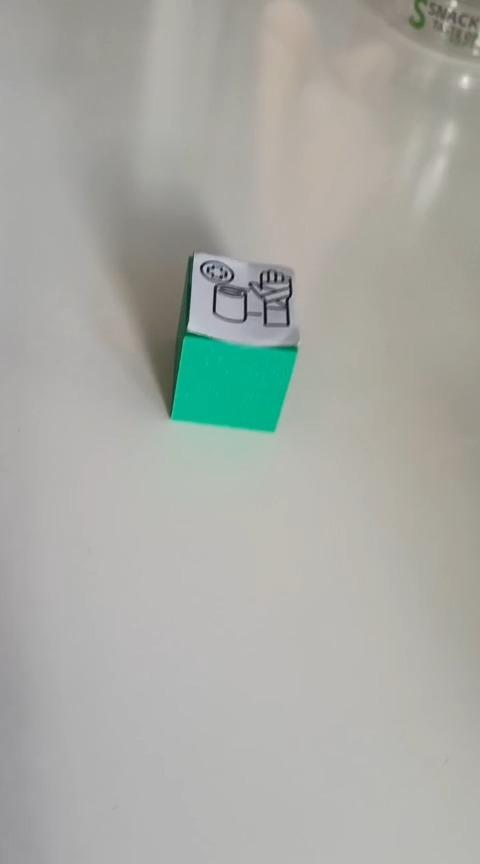Bandages: (168, 250, 300, 433)
